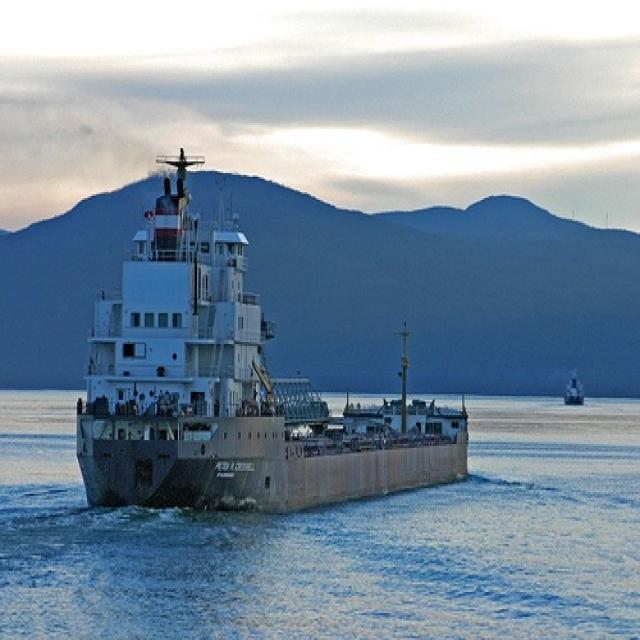boat: (74, 144, 468, 509), (563, 369, 585, 407)
